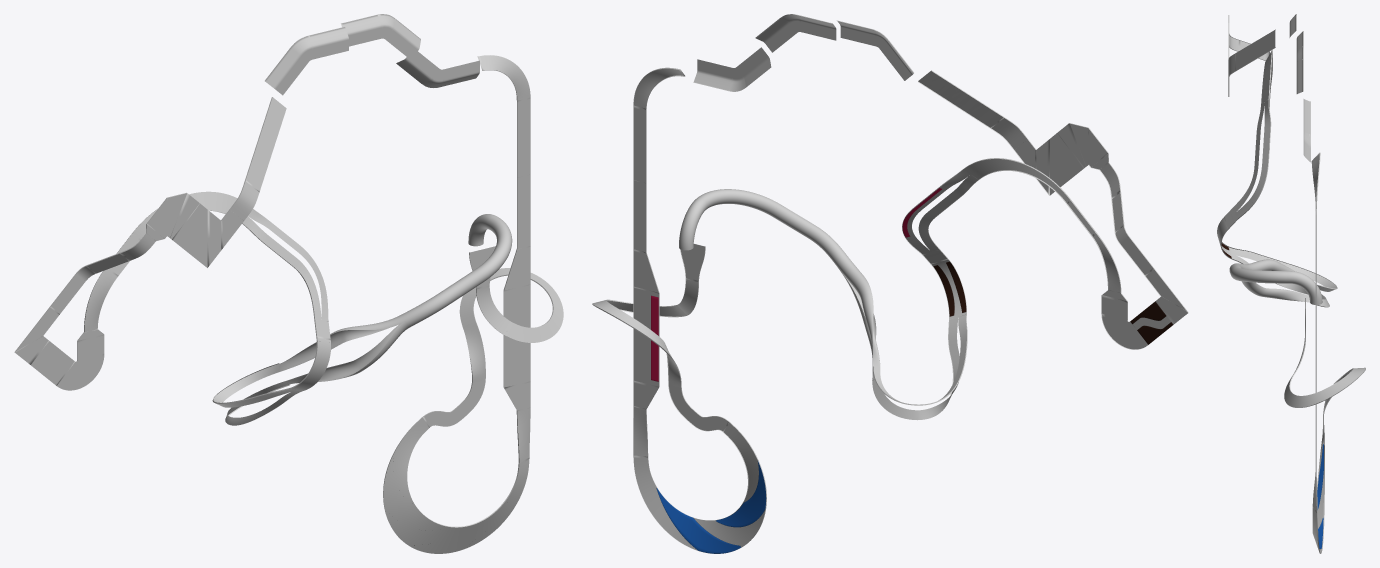
The model's file is track.obj.
The picture shows the model from 3 angles, left to right: view 1: azimuth 30°, elevation 25°; view 2: azimuth 150°, elevation 25°; view 3: azimuth 270°, elevation 25°; orthographic projection. The views are drawn at different scales.
Visible parts, largest first — view 1: MXTRoadSegment.234_PreviewMesh, MXTRoadSegment.249_PreviewMesh, MXTRoadSegment.226_PreviewMesh, MXTRoadSegment.231_PreviewMesh, MXTRoadSegment.062_PreviewMesh, MXTRoadSegment.001_PreviewMesh, MXTRoadSegment.193_PreviewMesh, MXTRoadSegment.080_PreviewMesh, MXTRoadSegment.168_PreviewMesh, MXTRoadSegment.184_PreviewMesh, MXTRoadSegment.206_PreviewMesh, MXTRoadSegment.000_PreviewMesh (+20 smaller); view 2: MXTRoadSegment.234_PreviewMesh, MXTRoadSegment.249_PreviewMesh, MXTRoadSegment.062_PreviewMesh, MXTRoadSegment.187_PreviewMesh, MXTRoadSegment.231_PreviewMesh, MXTRoadSegment.193_PreviewMesh, MXTRoadSegment.163_PreviewMesh, MXTRoadSegment.226_PreviewMesh, MXTRoadSegment.080_PreviewMesh, MXTRoadSegment.206_PreviewMesh, MXTRoadSegment.179_PreviewMesh, MXTRoadSegment.000_PreviewMesh (+13 smaller); view 3: MXTRoadSegment.226_PreviewMesh, MXTRoadSegment.234_PreviewMesh, MXTRoadSegment.171_PreviewMesh, MXTRoadSegment.062_PreviewMesh, MXTRoadSegment.206_PreviewMesh, MXTRoadSegment.184_PreviewMesh, MXTRoadSegment.001_PreviewMesh, MXTRoadSegment.211_PreviewMesh, MXTRoadSegment.168_PreviewMesh, MXTRoadSegment.193_PreviewMesh, MXTRoadSegment.163_PreviewMesh, MXTRoadSegment.187_PreviewMesh (+4 smaller).
Boxes of the visible parts, x1=… form: MXTRoadSegment.234_PreviewMesh: x1=383, y1=417, x2=529, y2=553; MXTRoadSegment.249_PreviewMesh: x1=503, y1=284, x2=530, y2=387; MXTRoadSegment.226_PreviewMesh: x1=459, y1=268, x2=563, y2=342; MXTRoadSegment.231_PreviewMesh: x1=422, y1=321, x2=485, y2=427; MXTRoadSegment.062_PreviewMesh: x1=245, y1=97, x2=286, y2=192; MXTRoadSegment.001_PreviewMesh: x1=283, y1=321, x2=408, y2=384; MXTRoadSegment.193_PreviewMesh: x1=278, y1=314, x2=405, y2=372; MXTRoadSegment.080_PreviewMesh: x1=172, y1=203, x2=207, y2=267; MXTRoadSegment.168_PreviewMesh: x1=242, y1=216, x2=321, y2=320; MXTRoadSegment.184_PreviewMesh: x1=212, y1=363, x2=296, y2=407; MXTRoadSegment.206_PreviewMesh: x1=475, y1=216, x2=512, y2=281; MXTRoadSegment.000_PreviewMesh: x1=517, y1=97, x2=530, y2=177; MXTRoadSegment.234_PreviewMesh: x1=633, y1=422, x2=766, y2=553; MXTRoadSegment.249_PreviewMesh: x1=633, y1=286, x2=659, y2=386; MXTRoadSegment.062_PreviewMesh: x1=918, y1=70, x2=1004, y2=128; MXTRoadSegment.187_PreviewMesh: x1=872, y1=317, x2=959, y2=420; MXTRoadSegment.231_PreviewMesh: x1=663, y1=340, x2=729, y2=431; MXTRoadSegment.193_PreviewMesh: x1=834, y1=254, x2=880, y2=370; MXTRoadSegment.163_PreviewMesh: x1=962, y1=158, x2=1070, y2=202; MXTRoadSegment.226_PreviewMesh: x1=592, y1=299, x2=687, y2=352; MXTRoadSegment.080_PreviewMesh: x1=1050, y1=133, x2=1084, y2=195; MXTRoadSegment.206_PreviewMesh: x1=697, y1=189, x2=779, y2=216; MXTRoadSegment.179_PreviewMesh: x1=931, y1=259, x2=966, y2=319; MXTRoadSegment.000_PreviewMesh: x1=633, y1=105, x2=646, y2=183; MXTRoadSegment.226_PreviewMesh: x1=1284, y1=367, x2=1365, y2=407; MXTRoadSegment.234_PreviewMesh: x1=1312, y1=425, x2=1324, y2=553; MXTRoadSegment.171_PreviewMesh: x1=1234, y1=99, x2=1271, y2=220; MXTRoadSegment.062_PreviewMesh: x1=1235, y1=29, x2=1275, y2=70; MXTRoadSegment.206_PreviewMesh: x1=1230, y1=267, x2=1289, y2=283; MXTRoadSegment.184_PreviewMesh: x1=1230, y1=247, x2=1337, y2=291; MXTRoadSegment.001_PreviewMesh: x1=1242, y1=281, x2=1309, y2=302; MXTRoadSegment.211_PreviewMesh: x1=1289, y1=271, x2=1322, y2=304; MXTRoadSegment.168_PreviewMesh: x1=1233, y1=102, x2=1264, y2=213; MXTRoadSegment.193_PreviewMesh: x1=1245, y1=259, x2=1318, y2=285; MXTRoadSegment.163_PreviewMesh: x1=1261, y1=50, x2=1272, y2=103; MXTRoadSegment.187_PreviewMesh: x1=1232, y1=254, x2=1329, y2=307.
Bounding box in the file's own units: 3920 × 3684 × 1065.
